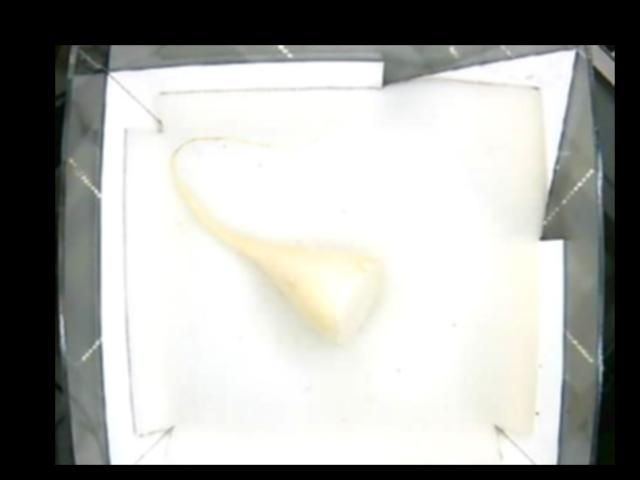Mooli: (222, 233, 383, 344)
